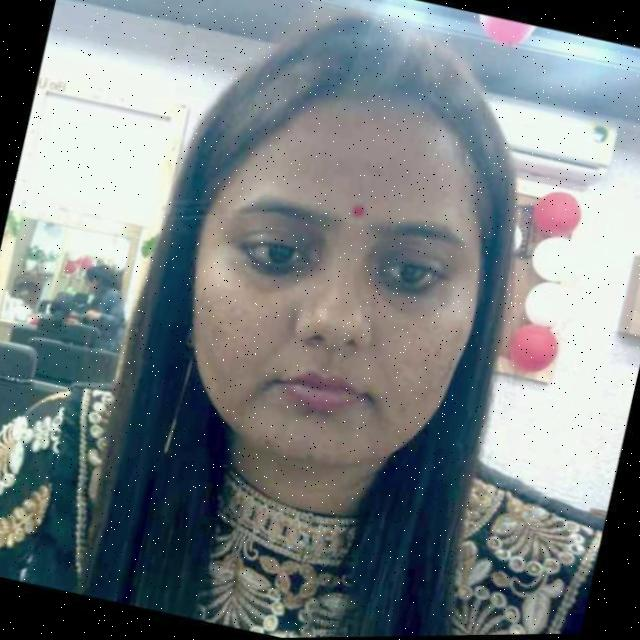puffy_eyes: (372, 276, 444, 314), (236, 260, 308, 293)
